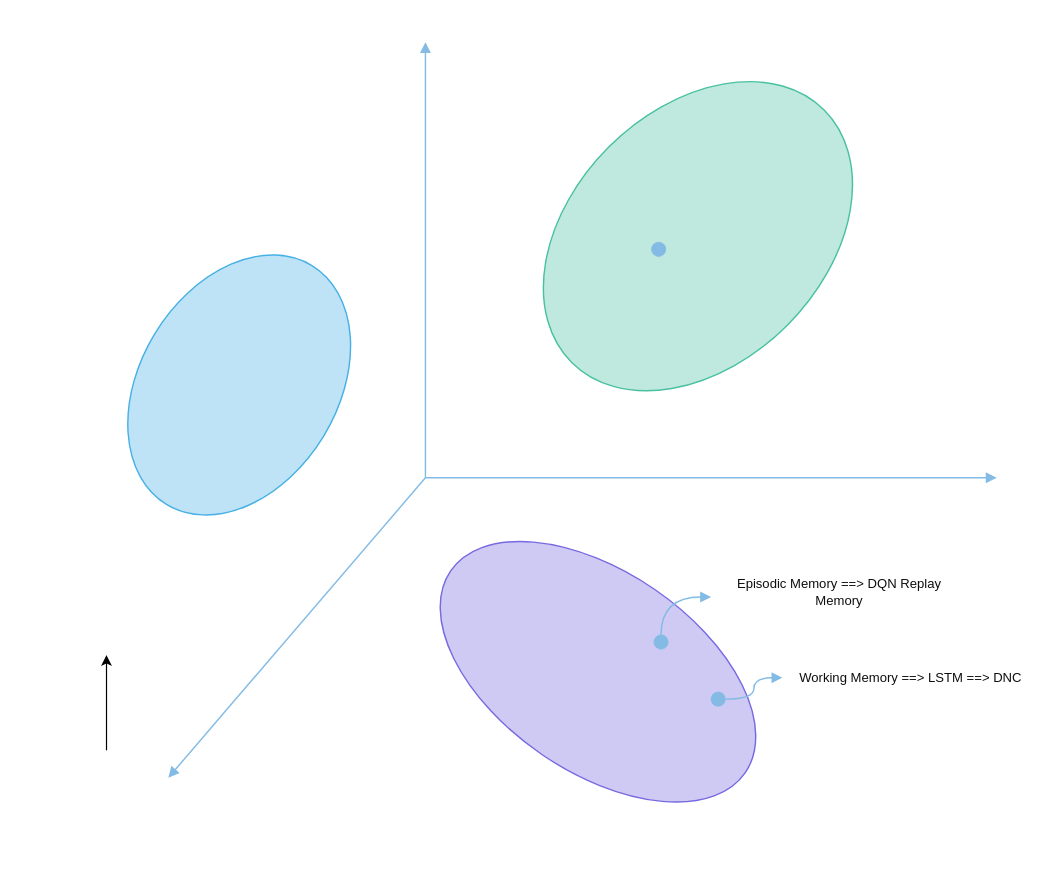
Image size: 1061x877. Some labels were removed from this diagram. Here are the shapes that lost their labels. From the top down, the centre of each, then its label:
At point 339,42: "FRAMEWORKS / PLATFORMS".
At point 106,771: "NEUROSCIENCE & PSYOCHOLOGY (decades of research)".
